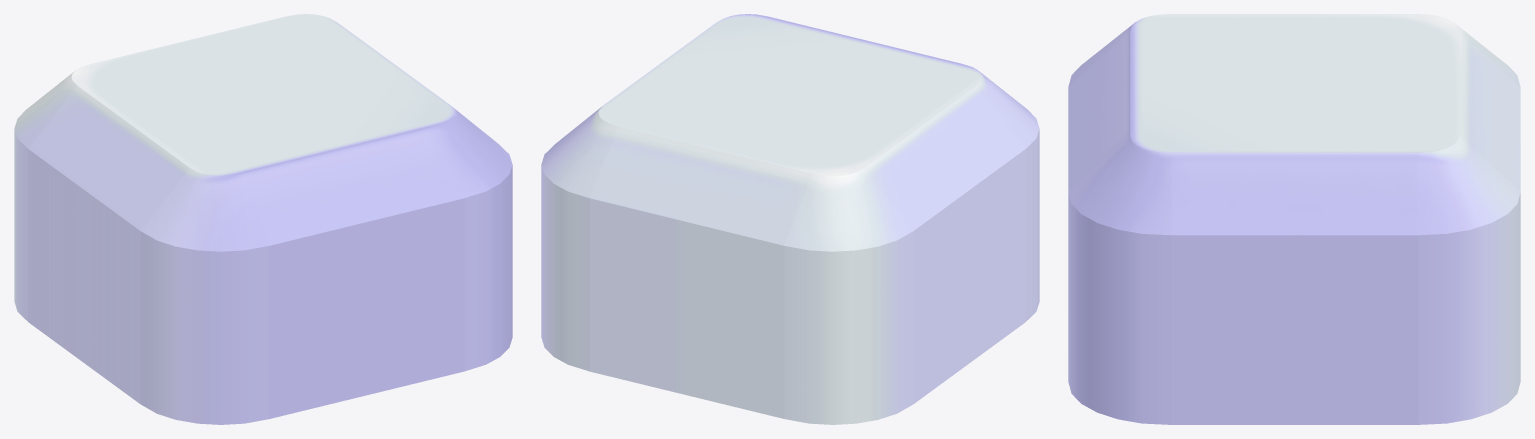
The model's file is Block_1x1_White.glb.
3 renders of one model, left to right at view 1: azimuth 30°, elevation 25°; view 2: azimuth 150°, elevation 25°; view 3: azimuth 270°, elevation 25°, orthographic. The views are drawn at different scales.
Visible parts, largest first — view 1: Edge_Bottom, FrontFace, Edge_Left, Corner_BottomLeft, Corner_BottomRight, Corner_TopLeft; view 2: Edge_Top, FrontFace, Edge_Left, Corner_TopLeft, Corner_TopRight, Corner_BottomLeft; view 3: Edge_Right, FrontFace, Corner_TopRight, Corner_BottomRight, Edge_Top, Edge_Bottom, Corner_TopLeft, Corner_BottomLeft.
Part boxes in pixels (x1,y1,x2,y2): Edge_Bottom: (241,126,463,418); FrontFace: (71,14,455,176); Edge_Left: (28,86,189,403); Corner_BottomLeft: (140,168,269,424); Corner_BottomRight: (436,106,512,371); Corner_TopLeft: (14,71,77,321); Edge_Top: (590,126,812,418); FrontFace: (598,14,982,176); Edge_Left: (864,86,1025,403); Corner_TopLeft: (784,168,913,424); Corner_TopRight: (541,106,617,371); Corner_BottomLeft: (976,71,1039,321); Edge_Right: (1171,153,1417,424); FrontFace: (1130,14,1458,152); Corner_TopRight: (1417,135,1520,424); Corner_BottomRight: (1068,135,1171,424); Edge_Top: (1458,32,1520,190); Edge_Bottom: (1068,32,1130,190); Corner_TopLeft: (1453,22,1520,86); Corner_BottomLeft: (1068,22,1135,86).
Size of the model in its own units: 1 by 0.5995 by 1.
1 material, 1 textured.
